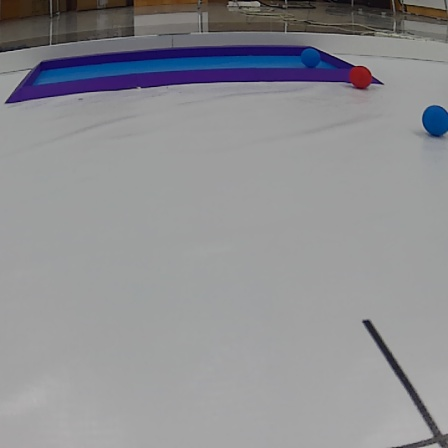blue: (422, 104, 448, 142), (298, 46, 325, 71)
blue_aim: (6, 50, 377, 85)
red: (347, 56, 378, 96)
